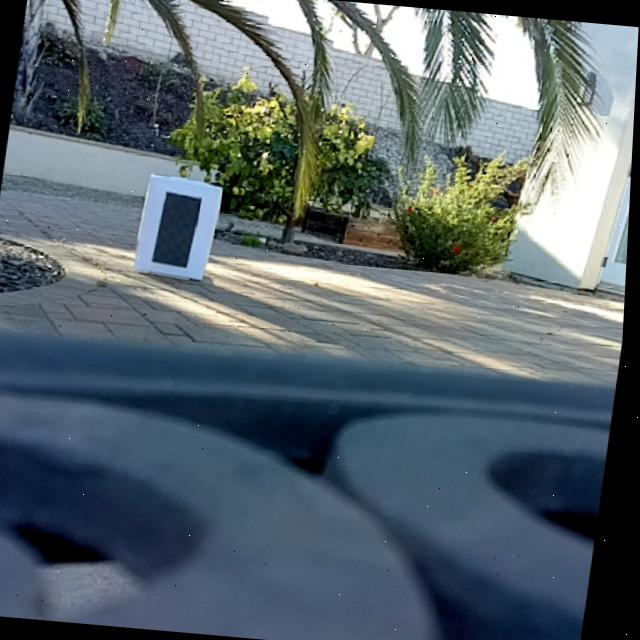led: (153, 190, 205, 268)
